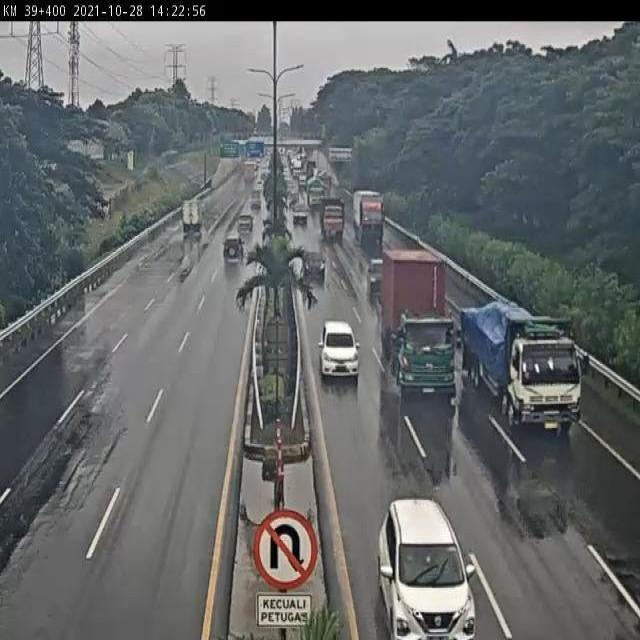big truck: (460, 300, 590, 432), (383, 250, 458, 402), (353, 187, 385, 241), (320, 196, 344, 243)
car: (377, 498, 479, 640), (319, 322, 360, 382), (305, 252, 327, 287), (184, 198, 205, 234), (225, 232, 245, 259), (293, 203, 309, 228), (237, 211, 255, 233)
